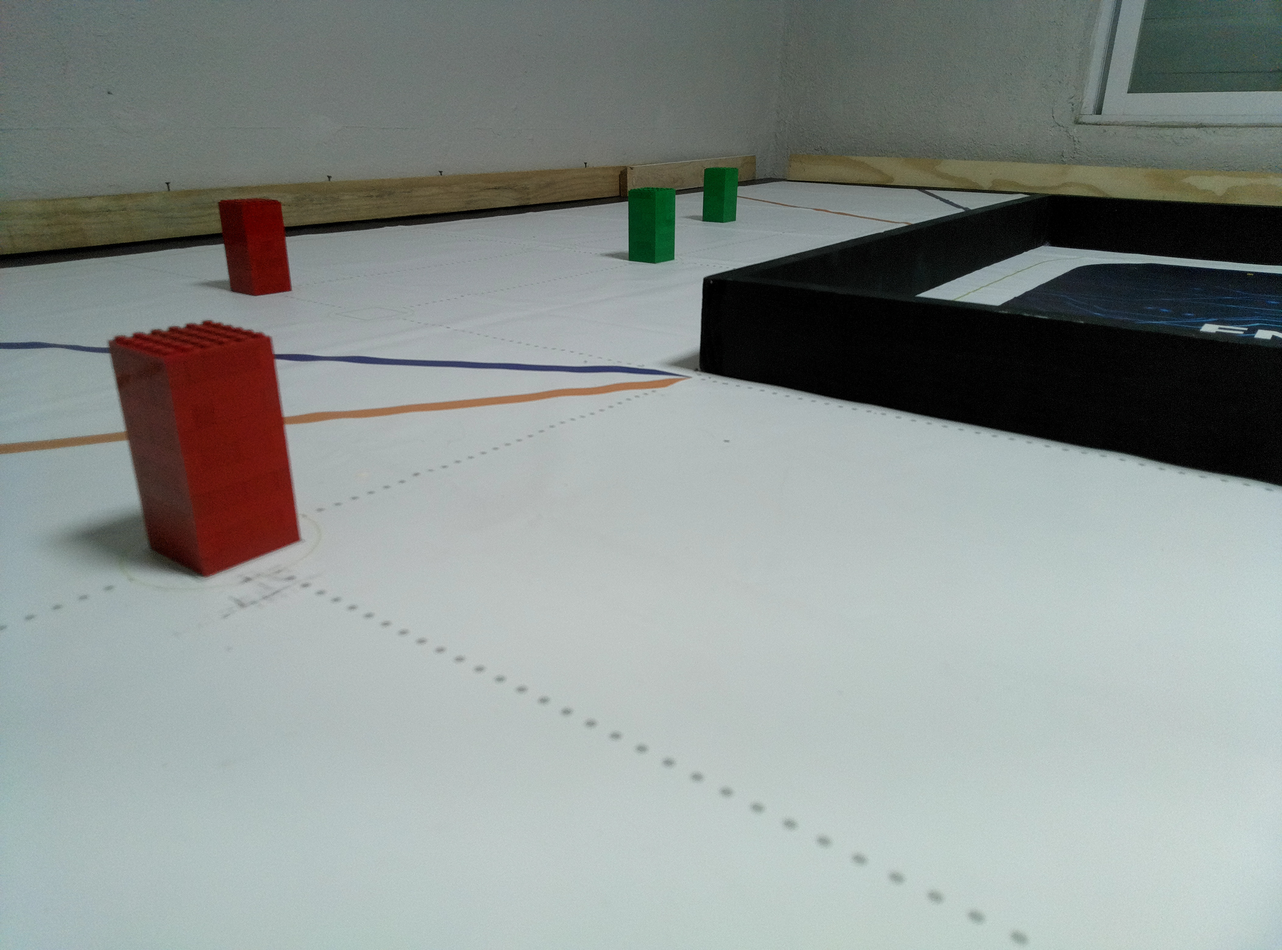greenbox: (628, 186, 675, 264), (702, 168, 739, 223)
redbox: (103, 322, 306, 579), (216, 197, 296, 296)
